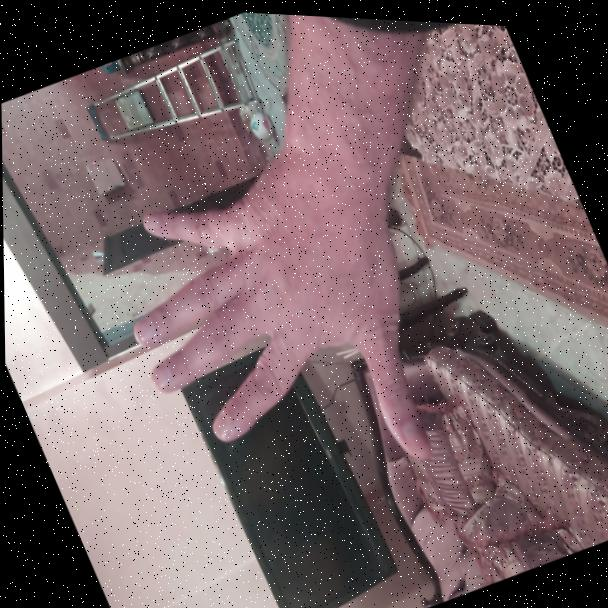five: (65, 89, 470, 542)
